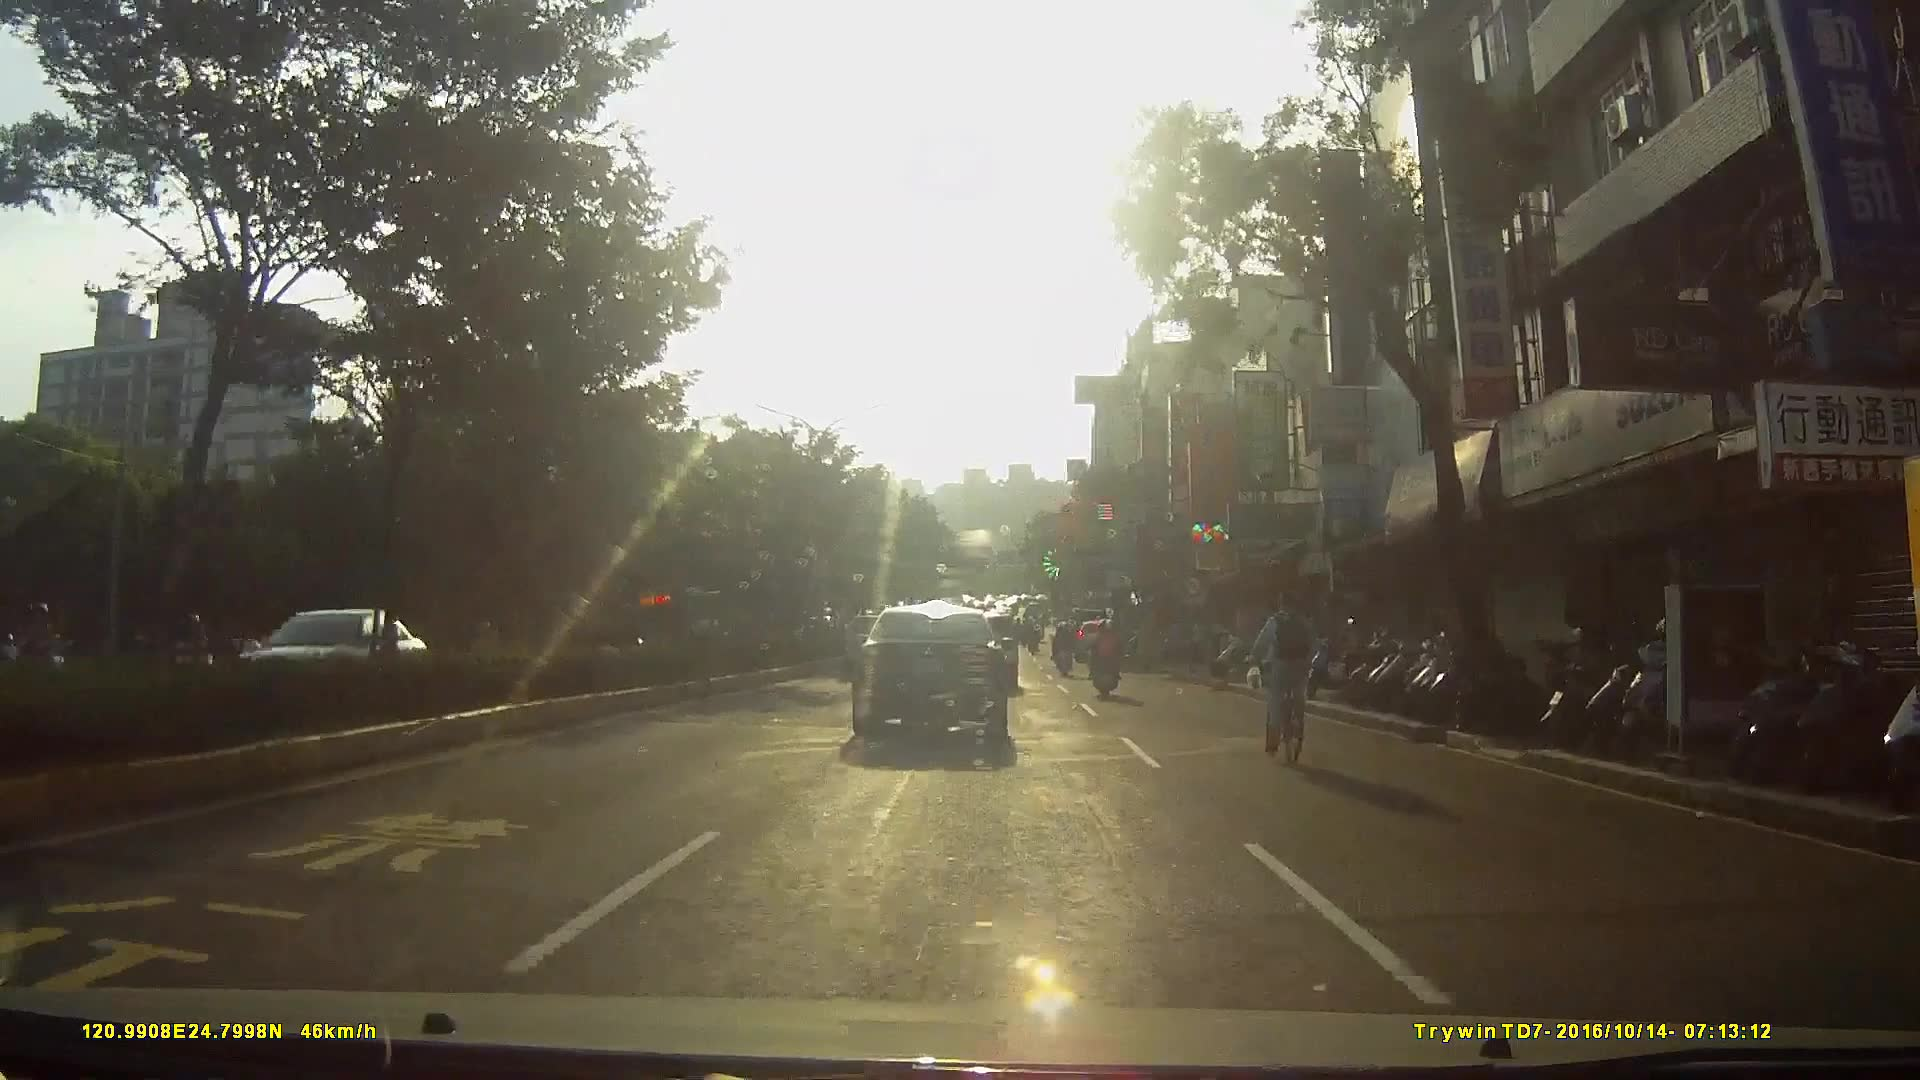rider: (1248, 588, 1325, 763), (18, 599, 81, 703), (1088, 620, 1121, 701), (1049, 619, 1076, 677)
vehicle: (853, 605, 1027, 756), (220, 601, 444, 712)
